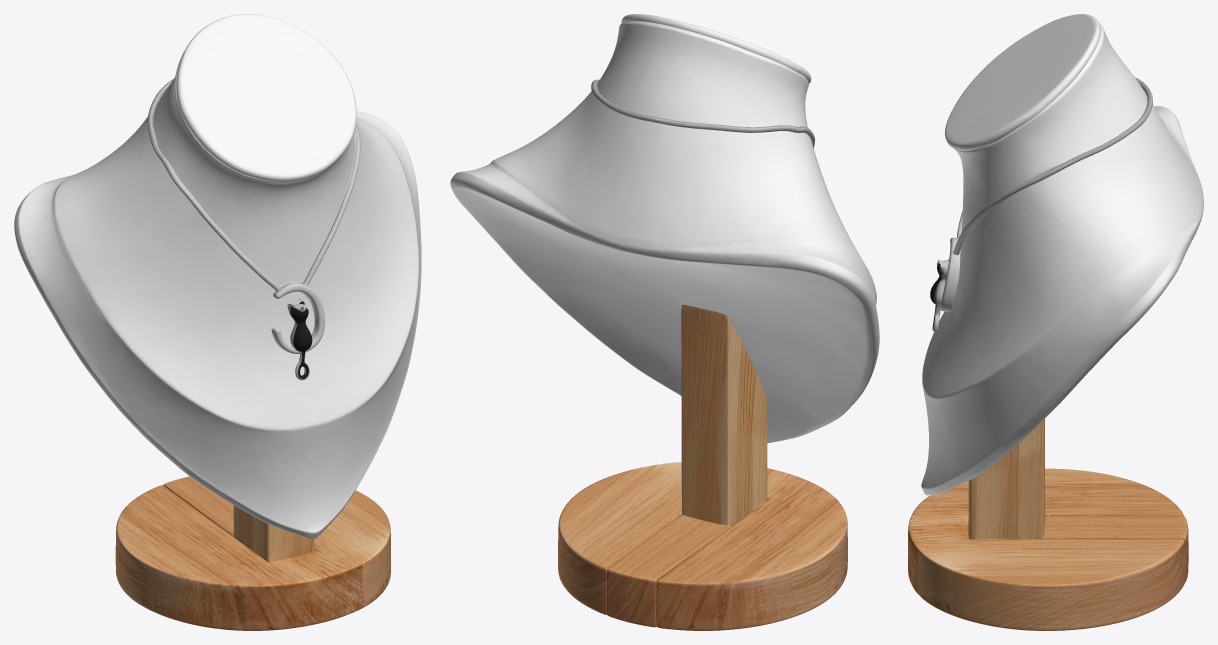
The model's file is Moonlit-Cat-Pendant.glb.
The picture shows the model from 3 angles, left to right: view 1: azimuth 30°, elevation 25°; view 2: azimuth 150°, elevation 25°; view 3: azimuth 270°, elevation 25°; orthographic projection. The views are drawn at different scales.
Bounding box in the file's own units: 1.43 × 1.9 × 0.9335.
1 material, 1 textured.
